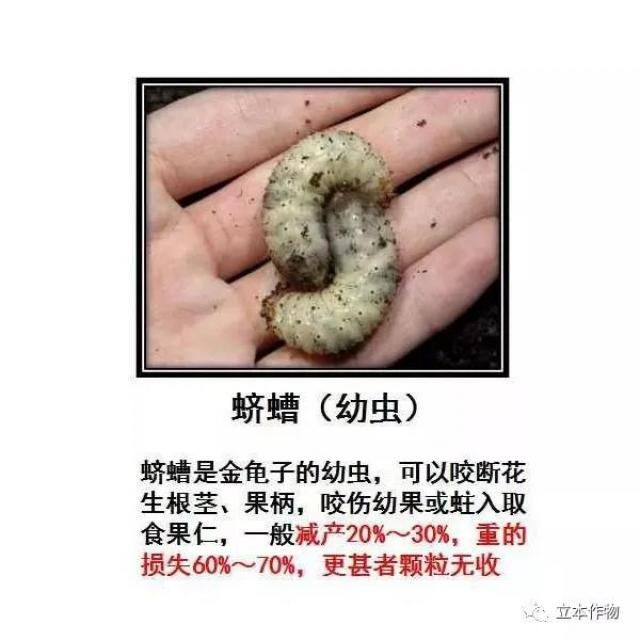Grub-Adult-: (256, 190, 408, 351), (254, 126, 402, 280)
